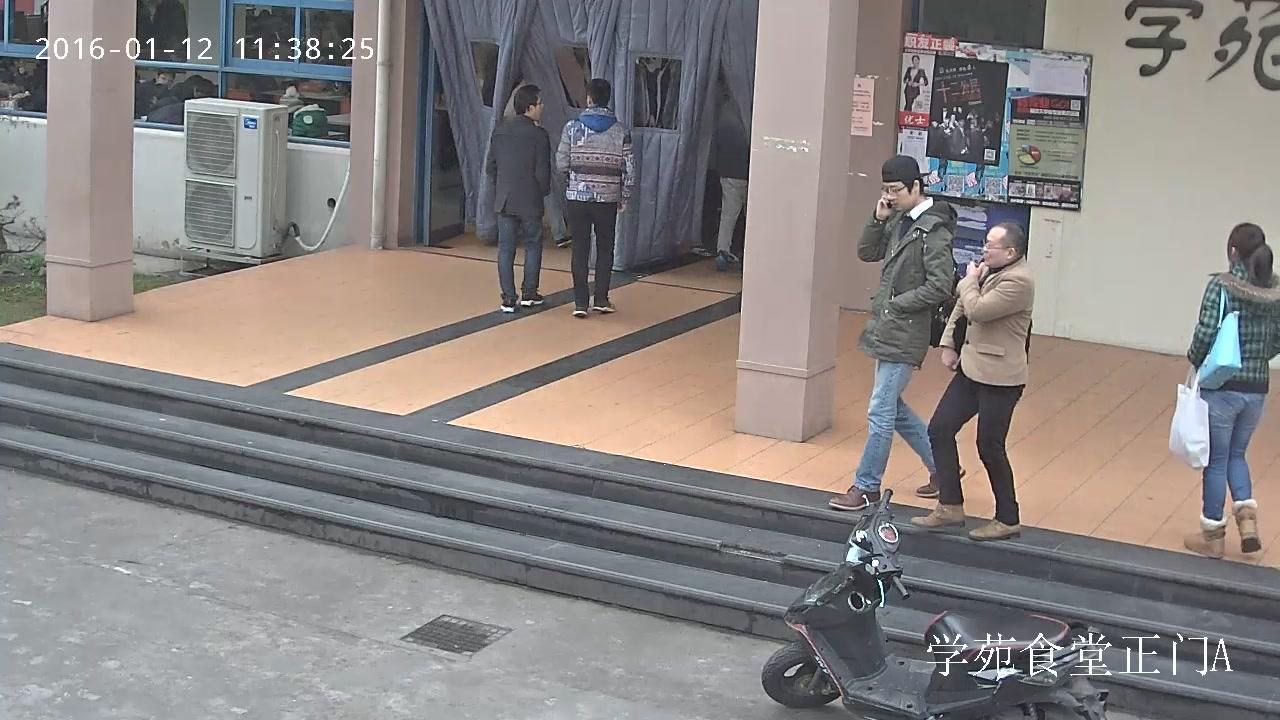person: (828, 156, 965, 511), (908, 218, 1034, 540), (1169, 222, 1280, 558), (553, 78, 635, 317), (484, 84, 552, 313), (715, 98, 750, 272), (279, 85, 330, 140), (136, 67, 181, 117), (139, 82, 183, 124), (900, 55, 929, 111)
